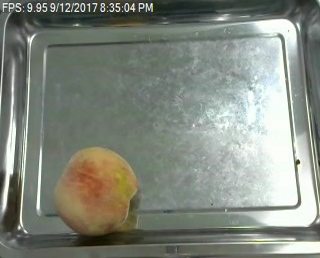Peach: (54, 146, 139, 235)
